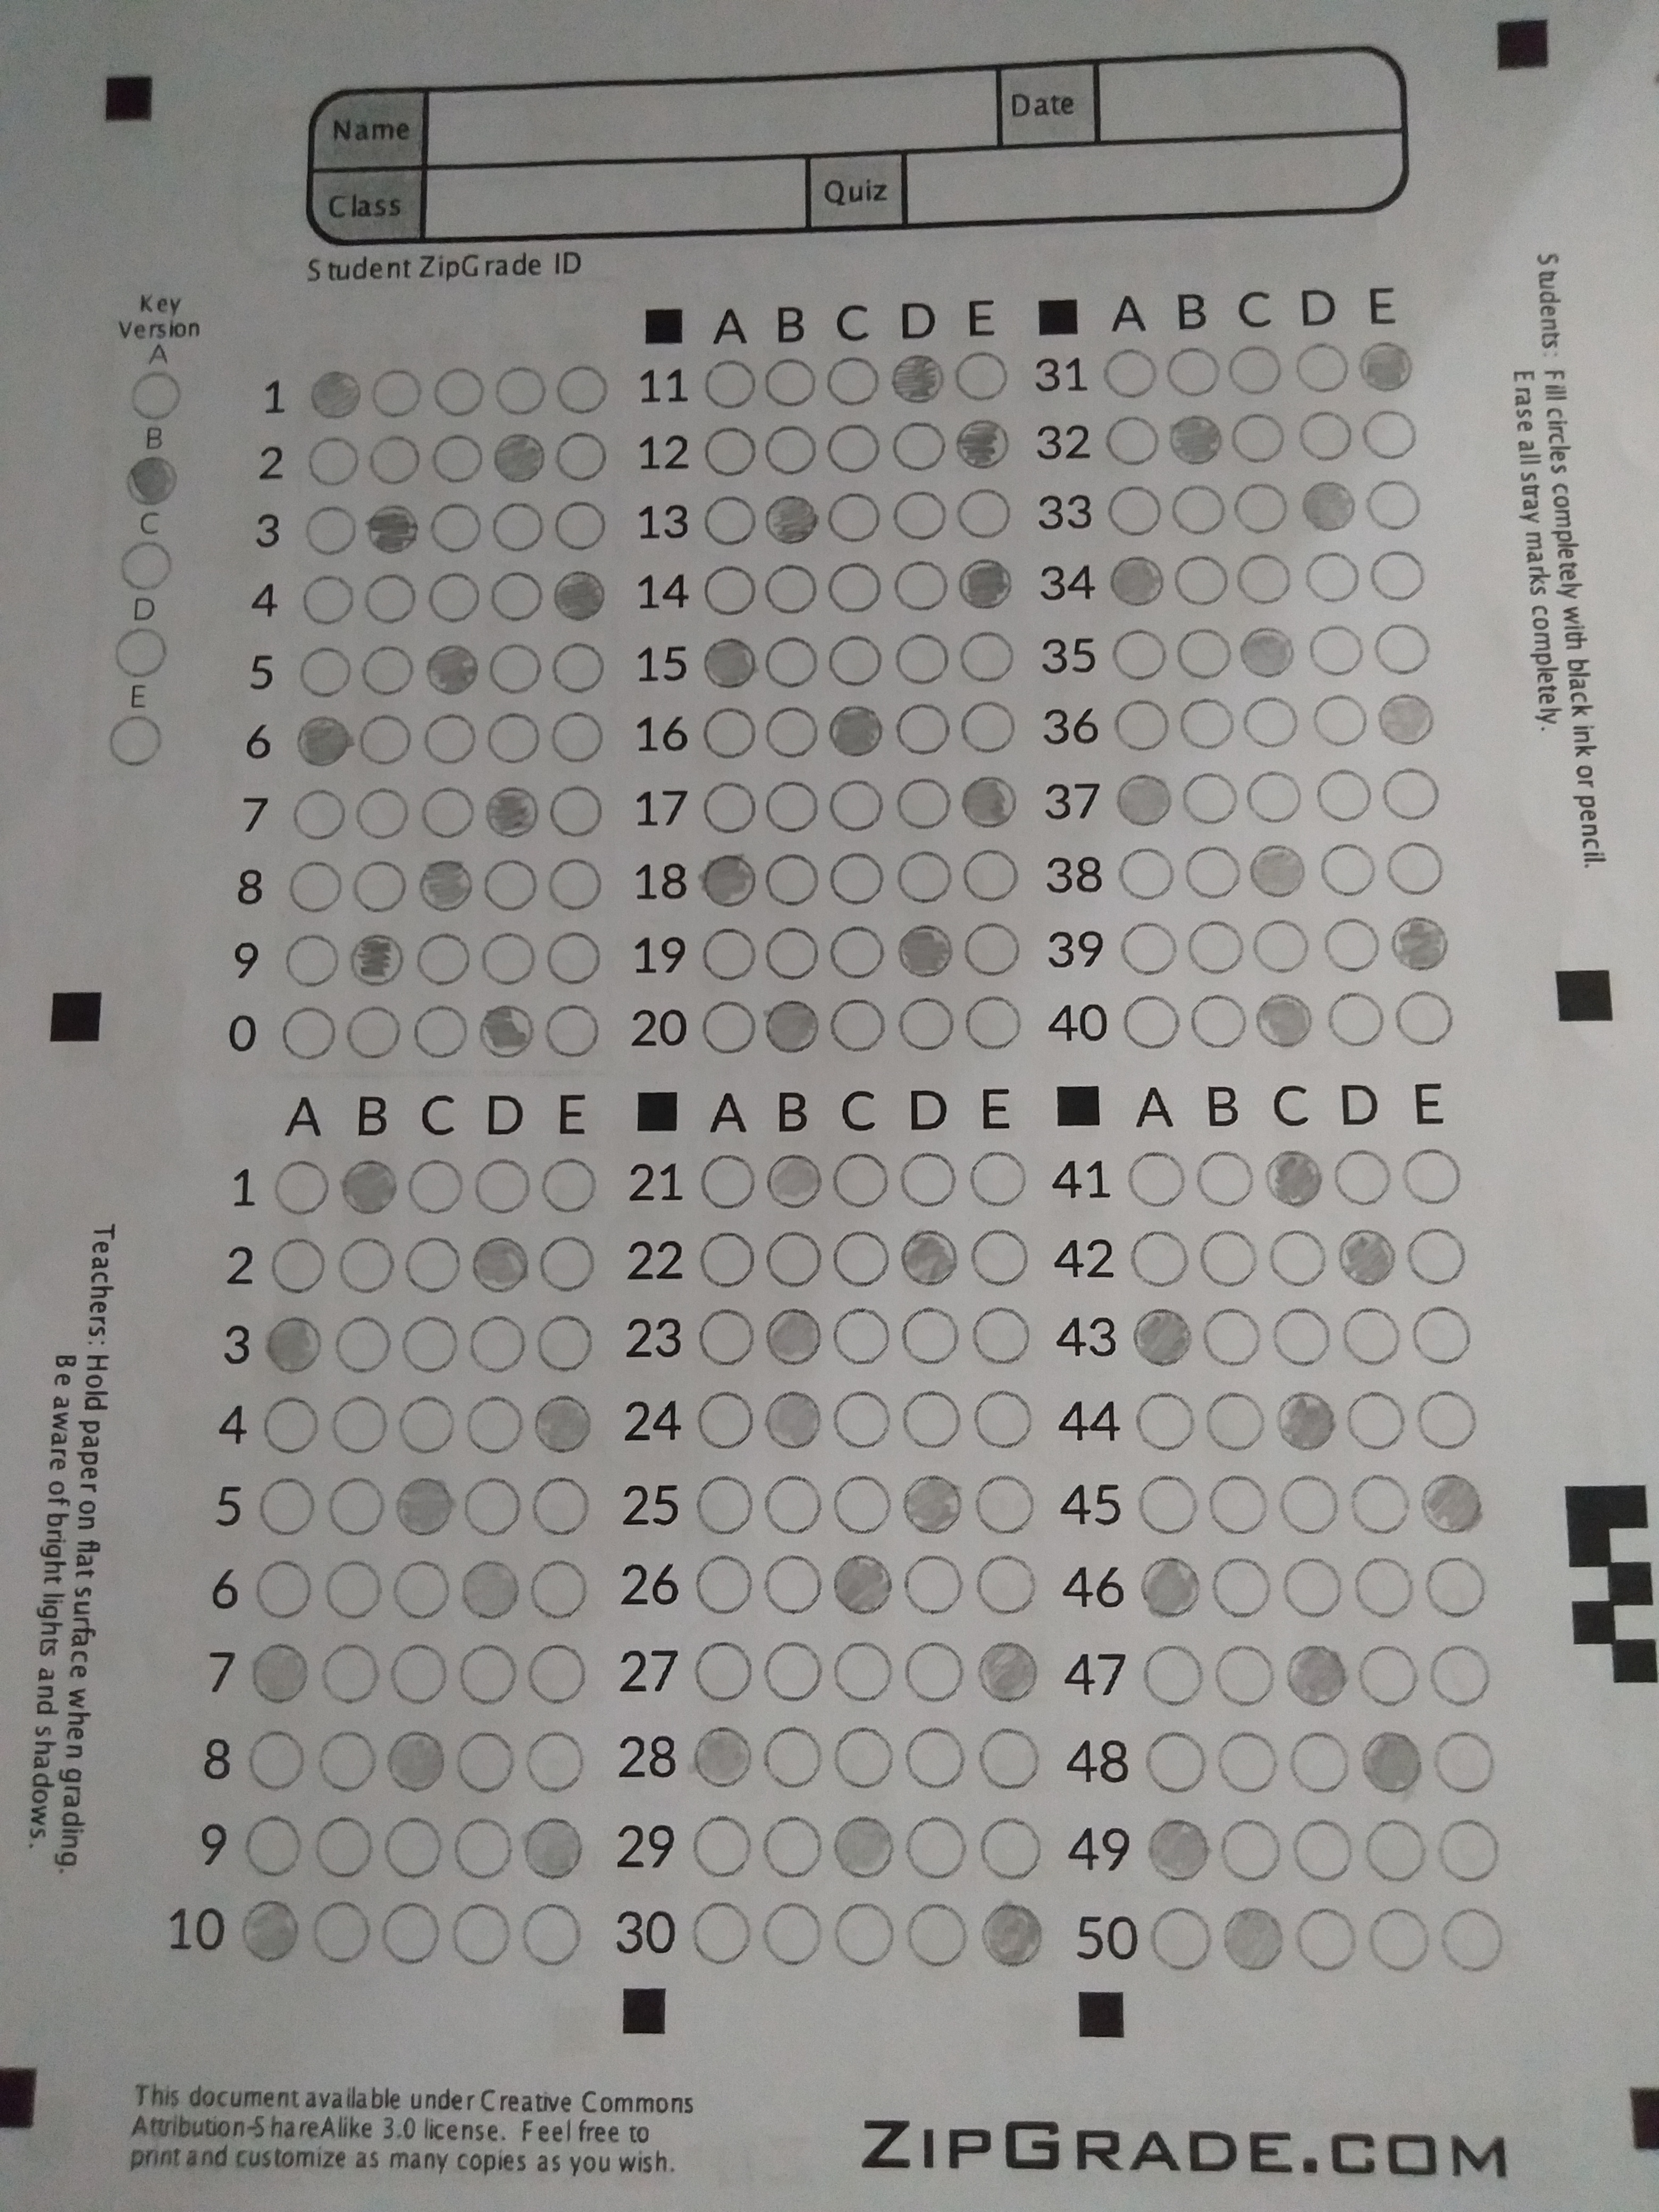not-c: (1119, 1223, 1190, 1287), (1260, 1226, 1331, 1291), (1351, 1644, 1422, 1709), (1347, 1555, 1419, 1620), (1337, 1470, 1408, 1534), (1342, 1390, 1413, 1454), (1335, 1301, 1406, 1366), (1432, 1731, 1504, 1796), (1422, 1642, 1493, 1707), (1405, 1224, 1476, 1289), (758, 1900, 829, 1965), (828, 1902, 899, 1966), (685, 1900, 756, 1965), (896, 1902, 967, 1966), (1209, 1731, 1281, 1796), (1215, 1820, 1286, 1885), (1432, 1820, 1504, 1885), (1438, 1911, 1509, 1975), (1359, 1907, 1431, 1972), (519, 1904, 591, 1968), (525, 1730, 596, 1794), (383, 1817, 455, 1881), (308, 1817, 380, 1881), (978, 1817, 1049, 1881), (903, 1724, 974, 1789), (974, 1726, 1046, 1791), (232, 1730, 303, 1794), (307, 1731, 378, 1796), (310, 1641, 382, 1705), (314, 1557, 385, 1622), (382, 1557, 453, 1622), (382, 1642, 453, 1707), (457, 1731, 528, 1796), (453, 1644, 525, 1709), (523, 1641, 594, 1705), (1405, 1305, 1474, 1369), (235, 1813, 305, 1878), (758, 1817, 828, 1881), (530, 1559, 599, 1623), (1121, 1150, 1192, 1212), (1412, 1388, 1483, 1451), (1281, 1733, 1352, 1796), (1286, 1818, 1358, 1881), (1359, 1822, 1431, 1885), (1288, 1907, 1359, 1970), (446, 1905, 518, 1968), (453, 1815, 525, 1878), (301, 1900, 373, 1963), (375, 1905, 446, 1968), (897, 1641, 969, 1703), (906, 1817, 978, 1879), (247, 1559, 319, 1622), (1185, 1150, 1255, 1212), (1422, 1554, 1492, 1616), (692, 1388, 758, 1451), (760, 1475, 829, 1534), (978, 1557, 1040, 1622), (474, 1155, 535, 1221), (1321, 991, 1389, 1050), (418, 784, 481, 841), (422, 712, 484, 770), (106, 718, 169, 775), (110, 624, 173, 681), (117, 538, 179, 596), (357, 712, 420, 770), (366, 435, 429, 493), (429, 364, 491, 421), (286, 644, 349, 702), (366, 366, 429, 423), (758, 357, 821, 415), (699, 773, 762, 831), (699, 707, 762, 765), (692, 491, 755, 549), (695, 421, 758, 479), (486, 641, 549, 698), (554, 361, 617, 418), (484, 502, 547, 559), (420, 502, 483, 559), (695, 927, 758, 984), (542, 1003, 605, 1061), (415, 932, 477, 989), (404, 1000, 467, 1057), (343, 1001, 406, 1059), (277, 1005, 340, 1062), (279, 928, 342, 986), (894, 702, 957, 759), (958, 698, 1021, 756), (890, 777, 953, 834), (826, 775, 889, 833), (892, 850, 955, 907), (958, 920, 1021, 977), (964, 991, 1026, 1049), (828, 1000, 890, 1057), (826, 923, 889, 981), (824, 850, 887, 907), (692, 995, 755, 1052), (892, 634, 955, 691), (896, 559, 958, 617), (951, 352, 1014, 409), (889, 420, 951, 477), (826, 631, 889, 688), (826, 559, 889, 617), (826, 489, 889, 547), (1314, 766, 1377, 824), (1303, 622, 1366, 679), (1300, 547, 1363, 604), (1291, 409, 1354, 467), (1291, 341, 1354, 399), (1385, 843, 1448, 900), (1378, 768, 1441, 826), (1371, 615, 1434, 672), (1368, 547, 1431, 604), (1183, 845, 1246, 902), (1114, 841, 1176, 899), (1173, 691, 1236, 749), (1171, 625, 1234, 683), (1105, 624, 1168, 681), (1248, 923, 1310, 981), (1283, 1561, 1345, 1618), (1209, 1561, 1272, 1618), (1206, 1475, 1269, 1533), (1204, 1393, 1267, 1451), (897, 1153, 960, 1211), (697, 1233, 760, 1291), (694, 1153, 756, 1211), (462, 1475, 525, 1533), (469, 1318, 532, 1376), (254, 1474, 317, 1531), (256, 1395, 319, 1453), (267, 1235, 329, 1292), (272, 1157, 335, 1214), (978, 1477, 1040, 1534), (833, 1390, 896, 1447), (903, 1390, 965, 1447), (903, 1310, 965, 1367), (972, 1231, 1035, 1289), (967, 1151, 1030, 1209), (833, 1728, 896, 1785), (765, 1728, 828, 1785), (697, 1646, 760, 1703), (694, 1475, 756, 1533), (349, 859, 411, 916), (765, 852, 826, 909), (120, 369, 181, 427), (359, 646, 420, 704), (357, 573, 418, 631), (282, 857, 343, 914), (289, 784, 350, 841), (295, 571, 355, 629), (298, 500, 359, 557), (763, 777, 824, 834), (758, 705, 819, 763), (760, 634, 821, 691), (763, 564, 824, 622), (760, 420, 821, 477), (701, 561, 762, 618), (701, 357, 762, 415), (547, 859, 608, 916), (481, 859, 542, 916), (486, 714, 547, 772), (544, 780, 605, 838), (549, 709, 610, 766), (552, 639, 613, 697), (552, 496, 613, 554), (552, 427, 613, 484), (491, 364, 552, 421), (483, 571, 544, 629), (420, 571, 481, 629), (430, 434, 491, 491), (957, 629, 1018, 686), (545, 930, 606, 988), (479, 930, 540, 988), (960, 848, 1021, 906), (763, 923, 824, 981), (1100, 411, 1161, 469), (1225, 338, 1286, 395), (1164, 341, 1225, 399), (1100, 347, 1161, 404), (894, 488, 955, 545), (955, 484, 1016, 542), (824, 420, 885, 477), (824, 355, 885, 413), (1239, 691, 1300, 749), (1234, 550, 1295, 608), (1234, 477, 1295, 535), (1229, 409, 1290, 467), (1305, 693, 1366, 751), (1364, 477, 1425, 535), (1354, 404, 1415, 462), (1180, 773, 1241, 831), (1182, 920, 1243, 977), (1188, 993, 1249, 1050), (1121, 996, 1182, 1054), (1115, 920, 1176, 977), (1107, 697, 1168, 754), (1168, 550, 1229, 608), (1100, 484, 1161, 542), (1164, 481, 1225, 538), (1403, 1146, 1464, 1204), (1394, 986, 1455, 1043), (1321, 920, 1382, 977), (1243, 770, 1303, 827), (1145, 1733, 1206, 1791), (1140, 1646, 1201, 1703), (1199, 1308, 1260, 1366), (1269, 1310, 1330, 1367), (1213, 1648, 1274, 1705), (1279, 1475, 1340, 1533), (1136, 1475, 1197, 1533), (1138, 1392, 1199, 1449), (903, 1555, 964, 1613), (829, 1151, 890, 1209), (697, 1310, 758, 1367), (530, 1475, 591, 1533), (535, 1315, 596, 1372), (538, 1235, 599, 1292), (465, 1395, 526, 1453), (396, 1397, 457, 1454), (401, 1318, 462, 1376), (399, 1237, 460, 1294), (538, 1160, 599, 1217), (403, 1160, 464, 1217), (322, 1475, 383, 1533), (328, 1395, 389, 1453), (336, 1240, 397, 1298), (833, 1475, 894, 1533), (835, 1308, 896, 1366), (767, 1231, 828, 1289), (833, 1233, 894, 1291), (974, 1393, 1035, 1451), (971, 1306, 1032, 1364), (694, 1818, 755, 1876), (835, 1644, 896, 1702), (762, 1559, 823, 1616), (765, 1644, 826, 1702), (697, 1557, 758, 1615), (298, 434, 361, 489), (894, 996, 957, 1052), (1331, 1148, 1394, 1204), (1147, 1912, 1209, 1968), (1194, 1230, 1256, 1285), (333, 1318, 396, 1374), (352, 787, 413, 843), (1316, 838, 1377, 894)
taken-c: (824, 1552, 896, 1616), (453, 1559, 525, 1623), (1415, 1470, 1486, 1534), (519, 1817, 591, 1881), (688, 1726, 760, 1791), (240, 1642, 312, 1707), (896, 1472, 967, 1536), (387, 1475, 458, 1540), (331, 1157, 403, 1221), (1270, 1388, 1342, 1453), (1134, 1554, 1206, 1618), (1256, 1150, 1328, 1214), (235, 1898, 305, 1963), (382, 1731, 453, 1794), (828, 1815, 899, 1878), (1281, 1646, 1352, 1709), (1356, 1731, 1427, 1794), (1141, 1818, 1213, 1881), (972, 1904, 1044, 1966), (1218, 1905, 1290, 1968), (1333, 1224, 1405, 1287), (1127, 1308, 1199, 1371), (526, 1393, 594, 1458), (971, 1639, 1040, 1702), (260, 1312, 326, 1376), (758, 1388, 826, 1447), (758, 1151, 826, 1211), (896, 1228, 962, 1287), (762, 1306, 823, 1369), (465, 1235, 530, 1294), (1114, 772, 1176, 829), (1253, 991, 1316, 1049), (1356, 338, 1419, 395), (885, 350, 948, 408), (303, 364, 366, 421), (758, 491, 821, 549), (950, 415, 1012, 472), (1300, 477, 1361, 535), (1375, 690, 1436, 747), (1248, 841, 1309, 899), (1389, 913, 1450, 970), (1164, 408, 1225, 465), (488, 428, 549, 486), (118, 453, 179, 510), (361, 500, 422, 557), (549, 566, 610, 624), (420, 641, 481, 698), (295, 714, 355, 772), (481, 782, 542, 840), (343, 930, 404, 988), (894, 923, 955, 981), (957, 773, 1018, 831), (1236, 624, 1298, 679), (823, 704, 885, 759), (695, 637, 758, 693), (762, 998, 823, 1054), (413, 857, 474, 913), (476, 1003, 537, 1059), (699, 852, 760, 907), (953, 556, 1014, 611), (1108, 554, 1169, 610)
